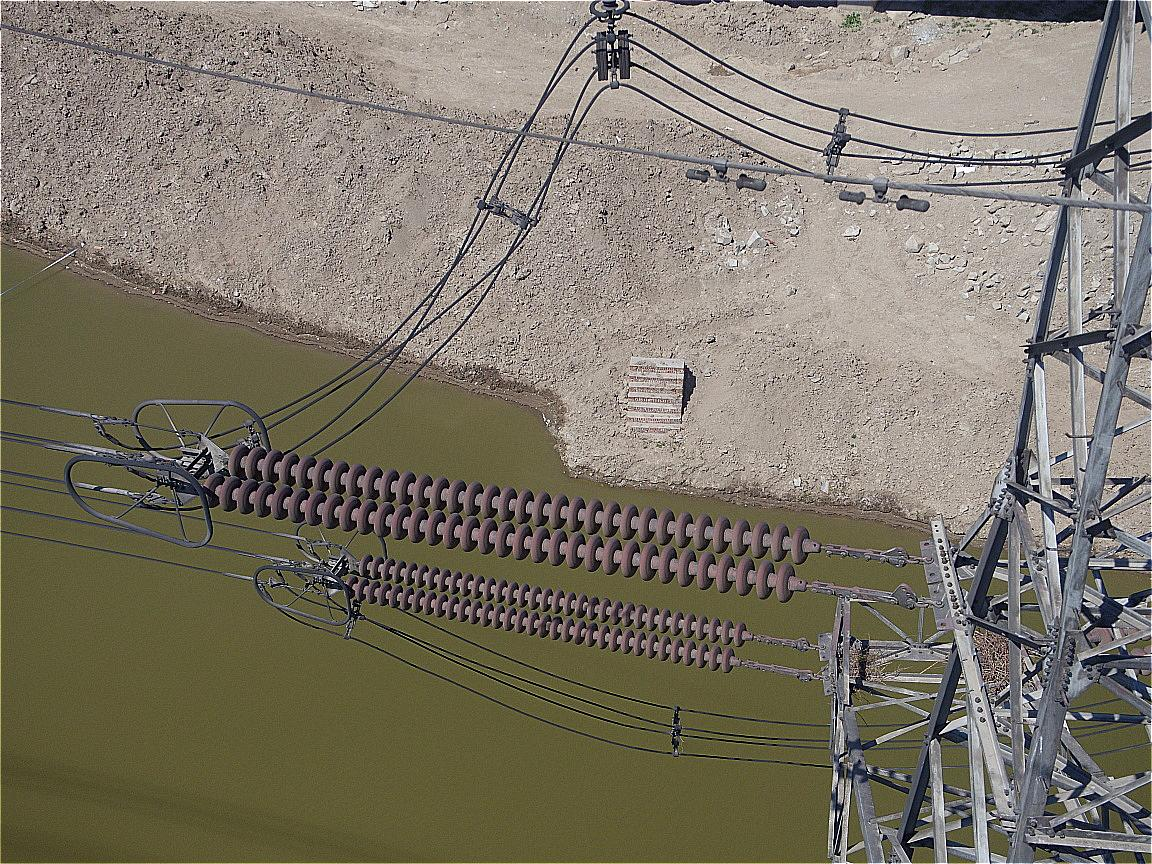insultor1: (203, 444, 812, 604), (344, 555, 750, 677)
